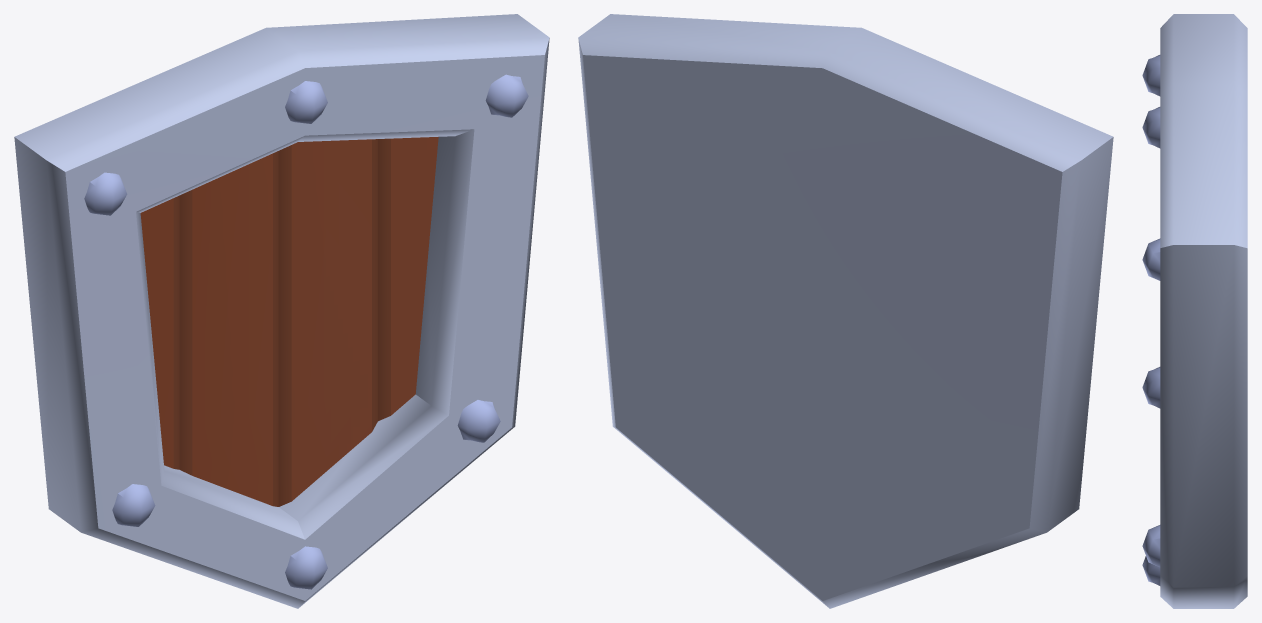
The picture shows the model from 3 angles, left to right: view 1: azimuth 30°, elevation 25°; view 2: azimuth 150°, elevation 25°; view 3: azimuth 270°, elevation 25°; orthographic projection. The views are drawn at different scales.
Visible parts, largest first — view 1: model_0.034; view 2: model_0.034; view 3: model_0.034.
Part boxes in pixels (<box>): model_0.034: <box>14,14,549,608</box>; model_0.034: <box>578,14,1113,608</box>; model_0.034: <box>1142,14,1247,608</box>.
Bounding box in the file's own units: 3.34 × 3.54 × 0.6434.
